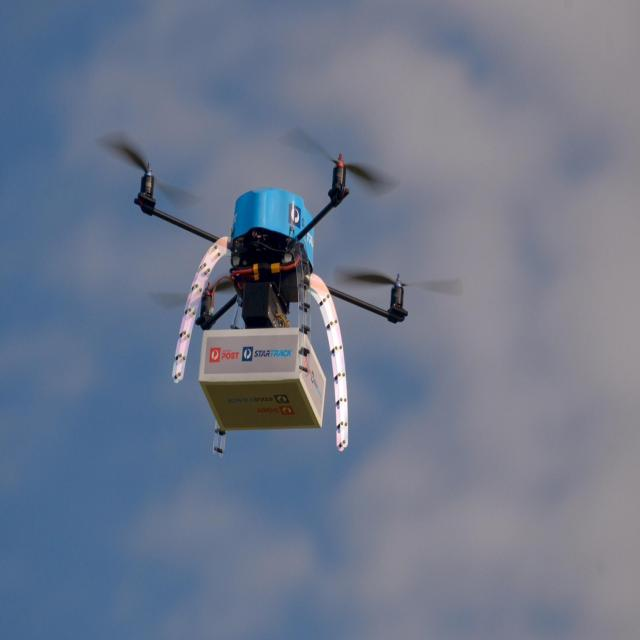drone: (133, 148, 407, 452)
